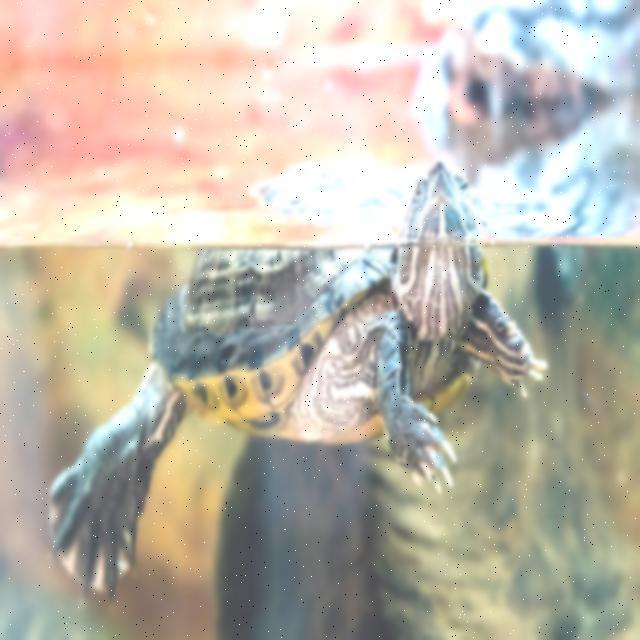tortoise: (54, 165, 562, 598)
